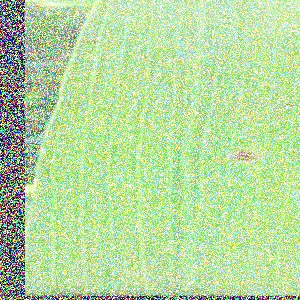Bacterial_Leaf_Blight: (229, 144, 261, 167), (276, 99, 299, 110), (88, 35, 103, 47)
